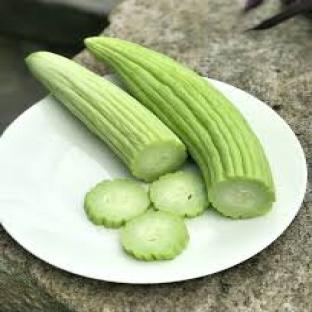Cucumber: (86, 37, 275, 217), (26, 52, 186, 181), (123, 210, 189, 261), (85, 180, 149, 227), (150, 171, 207, 217)
